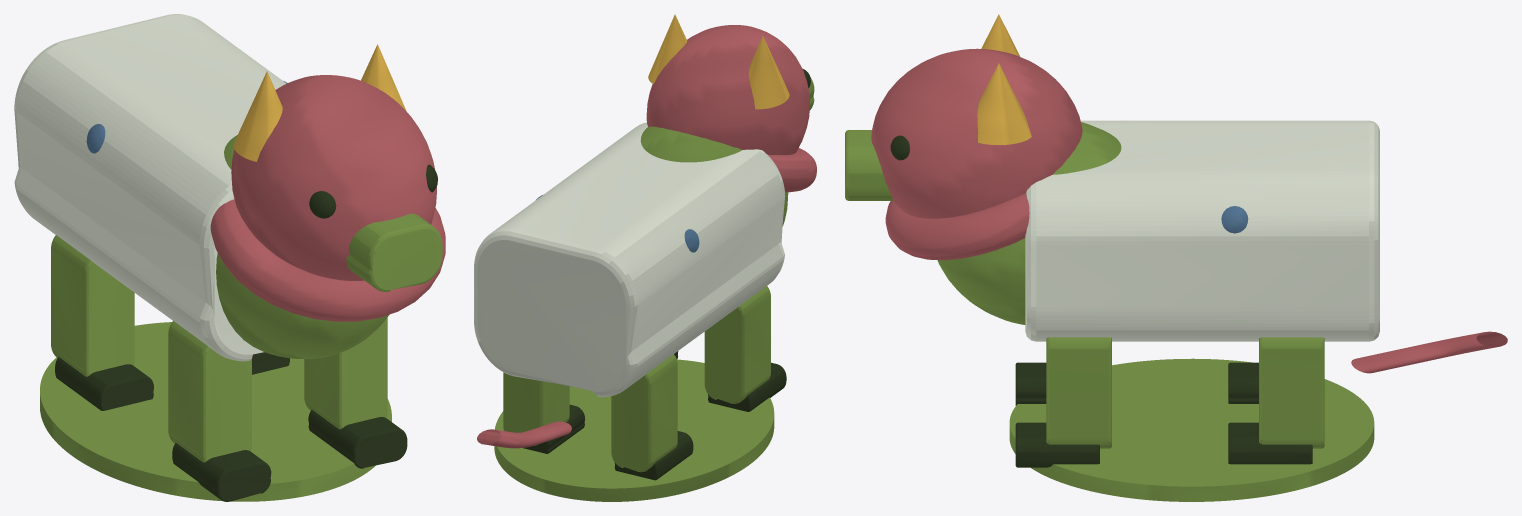
File: 1290_爬行动物图鉴_角飞蜥.glb
3 renders of one model, left to right at view 1: azimuth 30°, elevation 25°; view 2: azimuth 150°, elevation 25°; view 3: azimuth 270°, elevation 25°, orthographic. The views are drawn at different scales.
Parts seen in each view (by area): view 1: card_1290; view 2: card_1290; view 3: card_1290.
Part boxes in pixels (bbox=[...]): card_1290: bbox=[14, 14, 445, 501]; card_1290: bbox=[474, 14, 816, 501]; card_1290: bbox=[845, 14, 1507, 501].
Bounding box in the file's own units: 0.6861 × 1 × 1.5.
